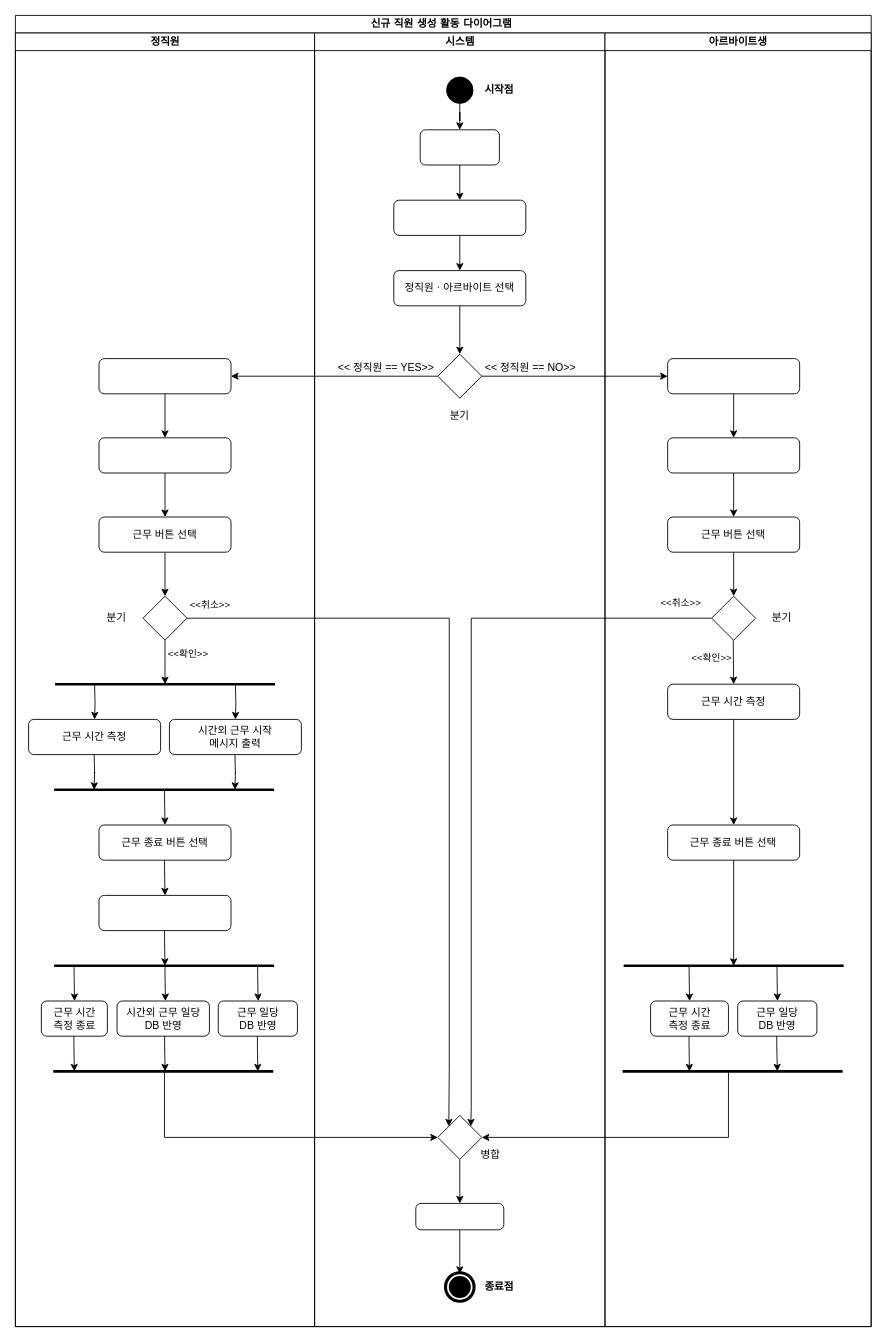
This 887x1342 diagram has some shape labels left out. The centre of each missing label's shape, as x and y in pixels:
메인화면 이동: (x=459, y=1216)
시간외 근무 가능 메시지 출력: (x=164, y=376)
시간외 근무 불가능 메시지 출력: (x=733, y=376)
시간외 근무 종료 메시지 출력: (x=164, y=913)
아르바이트생 추가: (x=733, y=455)
정직원 추가: (x=164, y=455)
정직원ㆍ아르바이트 차이점 출력: (x=459, y=217)
직원 추가: (x=459, y=147)
